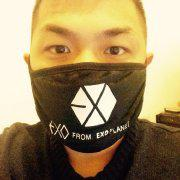OK: (28, 24, 151, 150)
